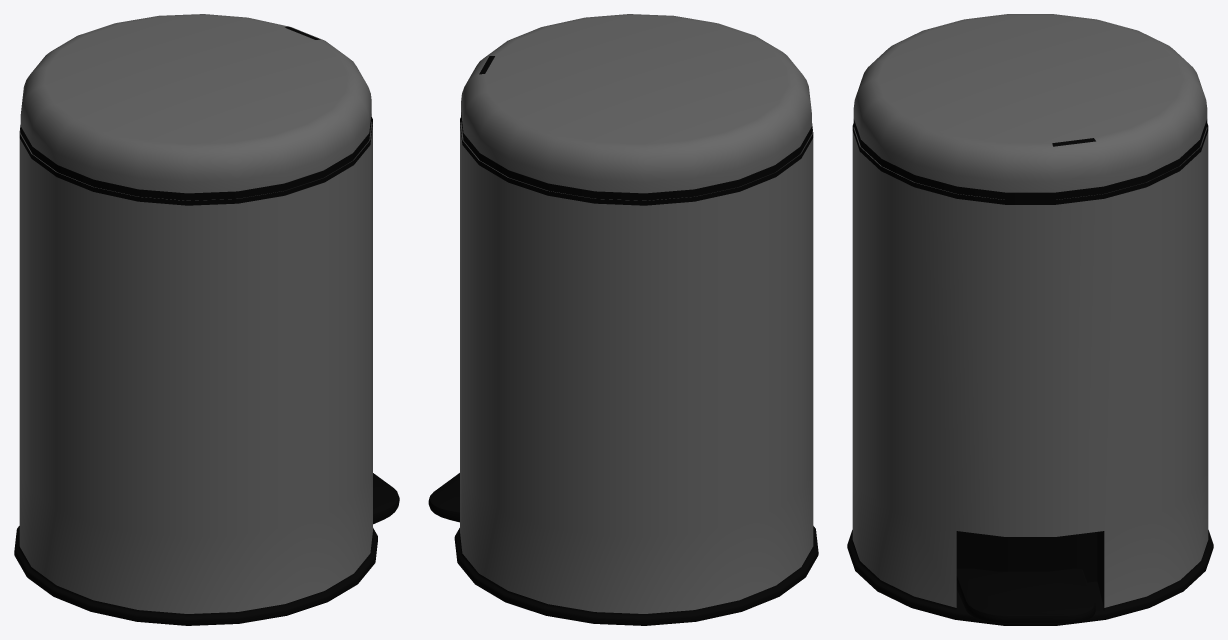
Rendered from trashcan.fbx.
The picture shows the model from 3 angles, left to right: view 1: azimuth 30°, elevation 25°; view 2: azimuth 150°, elevation 25°; view 3: azimuth 270°, elevation 25°; orthographic projection.
Parts seen in each view (by area): view 1: Cylinder.003; view 2: Cylinder.003; view 3: Cylinder.003.
Part boxes in pixels (bbox=[...]): Cylinder.003: bbox=[14, 14, 399, 625]; Cylinder.003: bbox=[428, 14, 818, 625]; Cylinder.003: bbox=[847, 14, 1213, 625].
Bounding box in the file's own units: 47.43 × 62.01 × 43.72.
